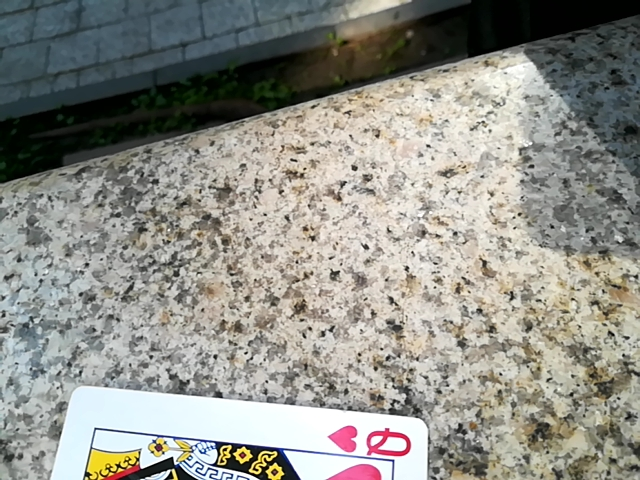hx q: (37, 388, 433, 480)
